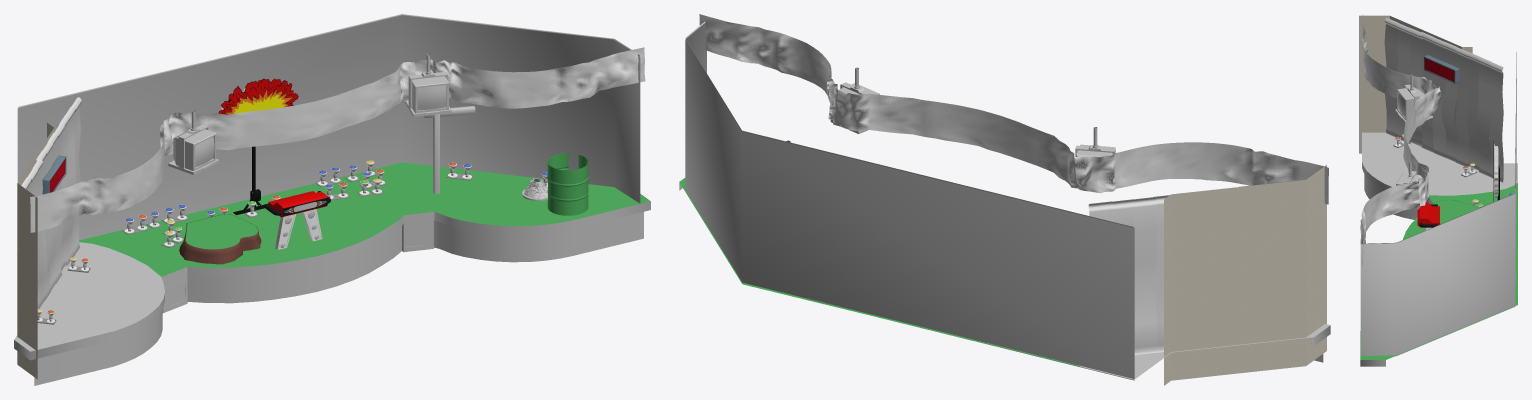
File: CampgroundShow.fbx
3 renders of one model, left to right at view 1: azimuth 30°, elevation 25°; view 2: azimuth 150°, elevation 25°; view 3: azimuth 270°, elevation 25°, orthographic. The views are drawn at different scales.
Parts seen in each view (by area): view 1: Circle.037; view 2: Circle.037; view 3: Circle.037.
Boxes of the visible parts, bbox=[...] form: Circle.037: bbox=[14, 14, 650, 385]; Circle.037: bbox=[679, 14, 1330, 385]; Circle.037: bbox=[1359, 15, 1517, 366].
Size of the model in its own units: 796 by 253 by 233.
